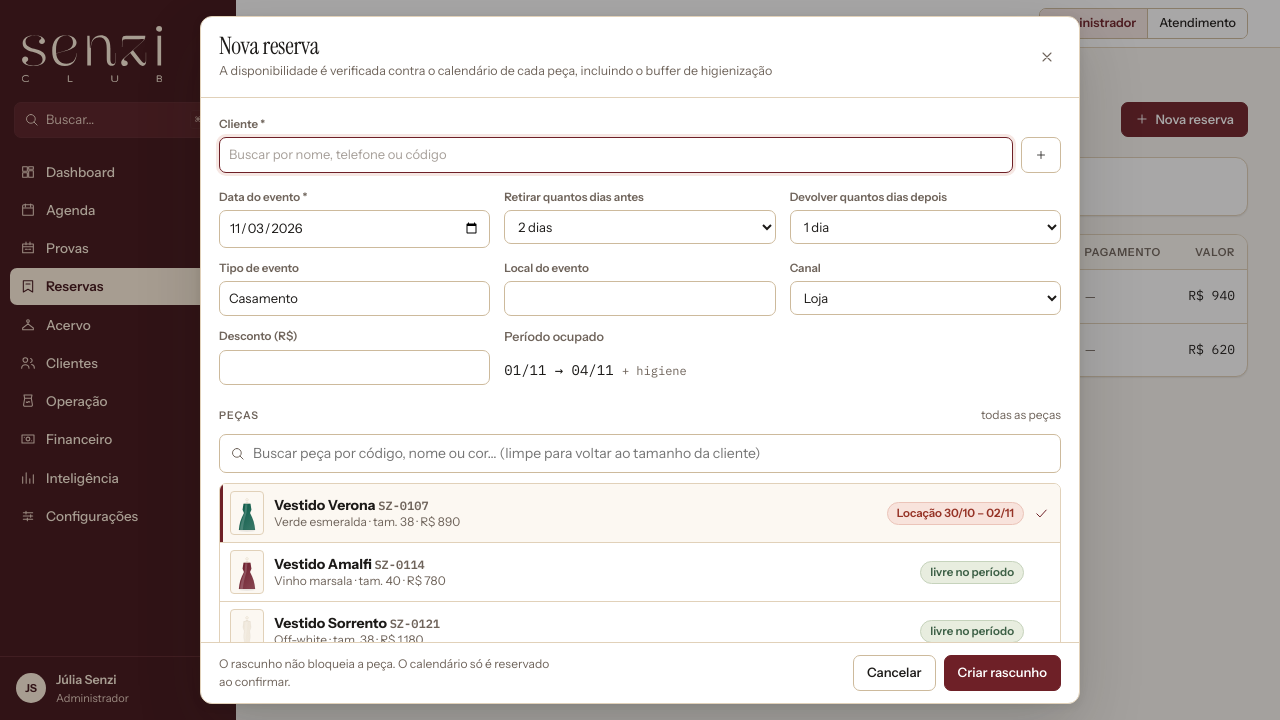
Test: Reservas — nova reserva › fechar remove os parâmetros da URL
Click the button "Cancelar".
click(894, 673)  # box [853, 655, 936, 691]
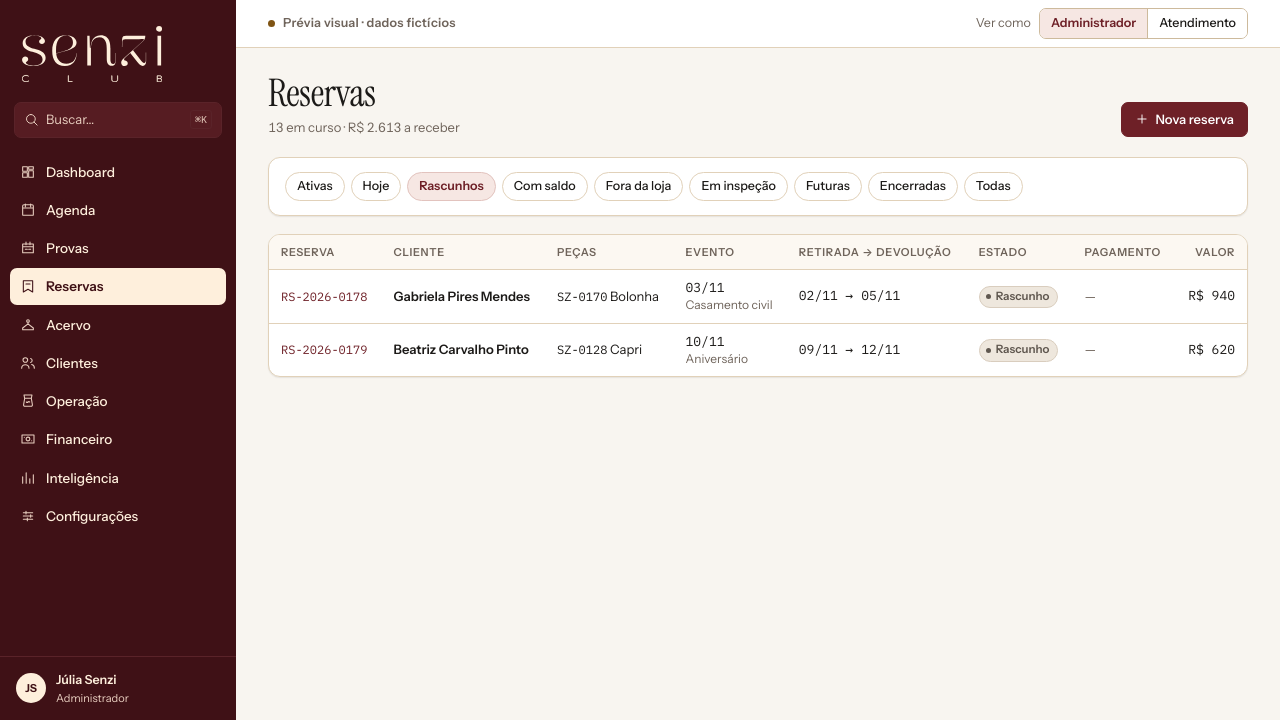
Expected: the dialog is gone
